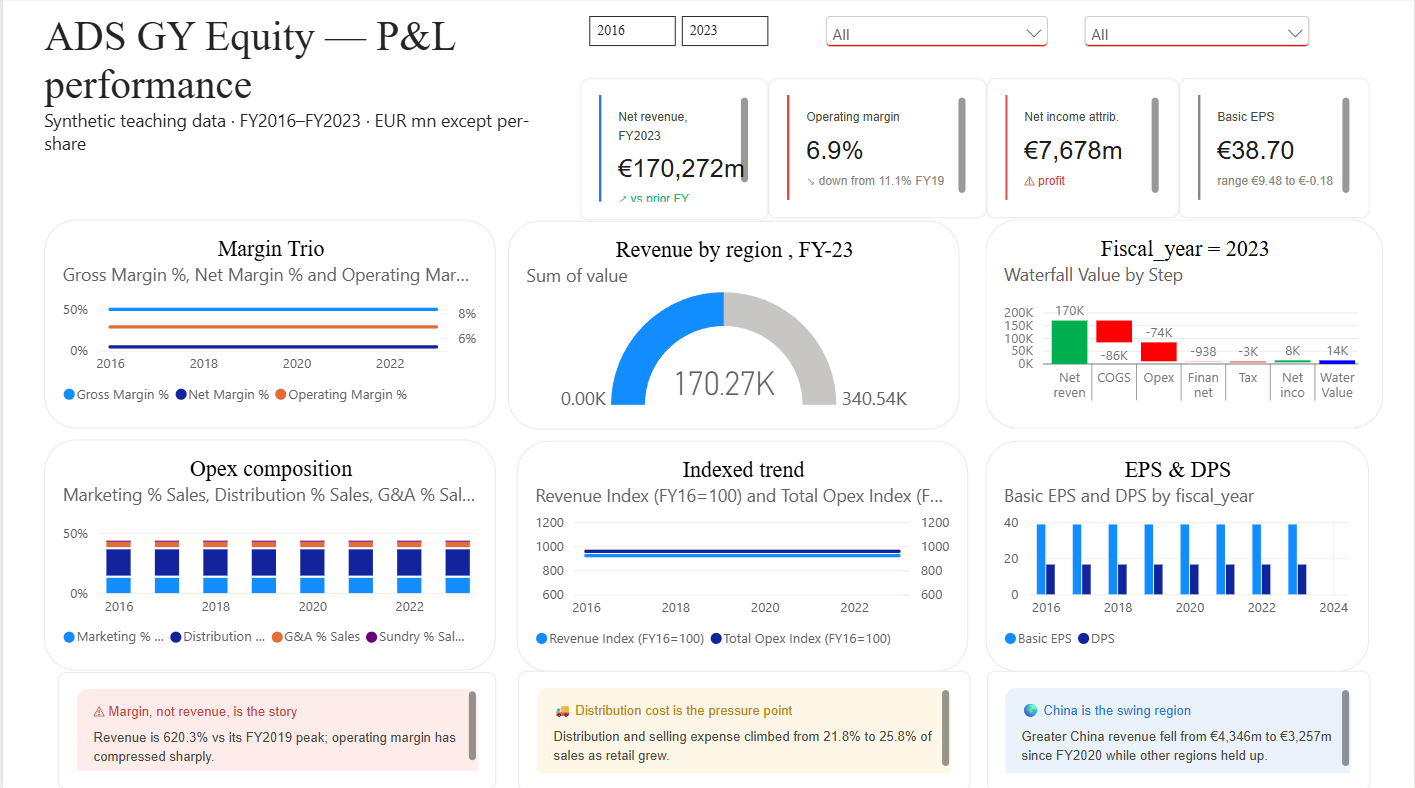

This screenshot's page, from the dashboard's own definition file:
{"tool":"powerbi","page":{"name":"Page 1","canvas":[1280,720],"ordinal":0},"visuals":[{"type":"textbox","box":[37.2,13.2,450.7,145],"z":0},{"type":"slicer","fields":{"Values":["Fact_PL.fiscal_year"]},"box":[524.4,12.8,197.7,60.5],"z":1000},{"type":"slicer","fields":{"Values":["RegionMap.Reporting Cluster"]},"box":[741.9,12.8,211.6,60.5],"z":2000},{"type":"slicer","fields":{"Values":["RevBySegment.segment"]},"box":[976.7,12.8,214,60.5],"z":3000},{"type":"lineChart","title":"Margin Trio","fields":{"Category":["RevBySegment.fiscal_year"],"Y":["_Measures.Gross Margin %","_Measures.Net Margin %"],"Y2":["_Measures.Operating Margin %"]},"box":[37.2,201.4,410,189.4],"z":4000},{"type":"gauge","title":"Revenue by region , FY-23","fields":{"Y":["Sum(RegionalRevenue.value)"]},"box":[458.4,202.8,410,189.4],"z":5000},{"type":"SimpleWaterfall","title":"Fiscal_year = 2023","fields":{"category":["Step.Step"],"measure":["_Measures.Waterfall Value"]},"box":[891.9,201.4,360.8,189.4],"z":6000},{"type":"columnChart","title":"Opex composition","fields":{"Category":["RevBySegment.fiscal_year"],"Y":["_Measures.Marketing % Sales","_Measures.Distribution % Sales","_Measures.G&A % Sales","_Measures.Sundry % Sales"]},"box":[37.2,401.6,410,209.8],"z":7000},{"type":"lineChart","title":"Indexed trend","fields":{"Category":["RevBySegment.fiscal_year"],"Y":["_Measures.Revenue Index (FY16=100)"],"Y2":["_Measures.Total Opex Index (FY16=100)"]},"box":[466.3,402.8,410,209.8],"z":8000},{"type":"clusteredColumnChart","title":"EPS & DPS","fields":{"Category":["RevBySegment.fiscal_year"],"Y":["_Measures.Basic EPS","_Measures.DPS"]},"box":[891.9,402.8,347.6,209.8],"z":9000},{"type":"htmlContent443BE3AD55E043BF878BED274D3A6855","fields":{"content":["_Measures.HTML Insight Margin"]},"box":[49.9,612.4,397.7,106.7],"z":10000},{"type":"htmlContent443BE3AD55E043BF878BED274D3A6855","fields":{"content":["_Measures.HTML Insight China"]},"box":[892.3,611,347.8,109.5],"z":11000},{"type":"htmlContent443BE3AD55E043BF878BED274D3A6855","fields":{"content":["_Measures.HTML Insight Distribution"]},"box":[466.9,611,410.1,109.5],"z":12000},{"type":"htmlContent443BE3AD55E043BF878BED274D3A6855","fields":{"content":["_Measures.HTML KPI Revenue"]},"box":[523.8,73.4,170.4,128.9],"z":13000},{"type":"htmlContent443BE3AD55E043BF878BED274D3A6855","fields":{"content":["_Measures.HTML KPI EPS"]},"box":[1066.9,73.4,173.2,127.5],"z":14000},{"type":"htmlContent443BE3AD55E043BF878BED274D3A6855","fields":{"content":["_Measures.HTML KPI Net Income"]},"box":[892.3,73.4,174.6,127.5],"z":15000},{"type":"htmlContent443BE3AD55E043BF878BED274D3A6855","fields":{"content":["_Measures.HTML KPI Op Margin"]},"box":[694.2,73.4,198.1,127.5],"z":16000}]}

Visuals, with their boxes in screenshot pixels (x1, y1, x2, y2), scaled from the page's 1280x720 canvas onto the 1415x788 screenshot:
textbox: crop(41, 14, 539, 173)
slicer - Fact_PL.fiscal_year: crop(580, 14, 798, 80)
slicer - RegionMap.Reporting Cluster: crop(820, 14, 1054, 80)
slicer - RevBySegment.segment: crop(1080, 14, 1316, 80)
"Margin Trio" lineChart: crop(41, 220, 494, 428)
"Revenue by region , FY-23" gauge: crop(507, 222, 960, 429)
"Fiscal_year = 2023" SimpleWaterfall: crop(986, 220, 1385, 428)
"Opex composition" columnChart: crop(41, 440, 494, 669)
"Indexed trend" lineChart: crop(515, 441, 969, 670)
"EPS & DPS" clusteredColumnChart: crop(986, 441, 1370, 670)
htmlContent443BE3AD55E043BF878BED274D3A6855 - _Measures.HTML Insight Margin: crop(55, 670, 495, 787)
htmlContent443BE3AD55E043BF878BED274D3A6855 - _Measures.HTML Insight China: crop(986, 669, 1371, 787)
htmlContent443BE3AD55E043BF878BED274D3A6855 - _Measures.HTML Insight Distribution: crop(516, 669, 969, 787)
htmlContent443BE3AD55E043BF878BED274D3A6855 - _Measures.HTML KPI Revenue: crop(579, 80, 767, 221)
htmlContent443BE3AD55E043BF878BED274D3A6855 - _Measures.HTML KPI EPS: crop(1179, 80, 1371, 220)
htmlContent443BE3AD55E043BF878BED274D3A6855 - _Measures.HTML KPI Net Income: crop(986, 80, 1179, 220)
htmlContent443BE3AD55E043BF878BED274D3A6855 - _Measures.HTML KPI Op Margin: crop(767, 80, 986, 220)
